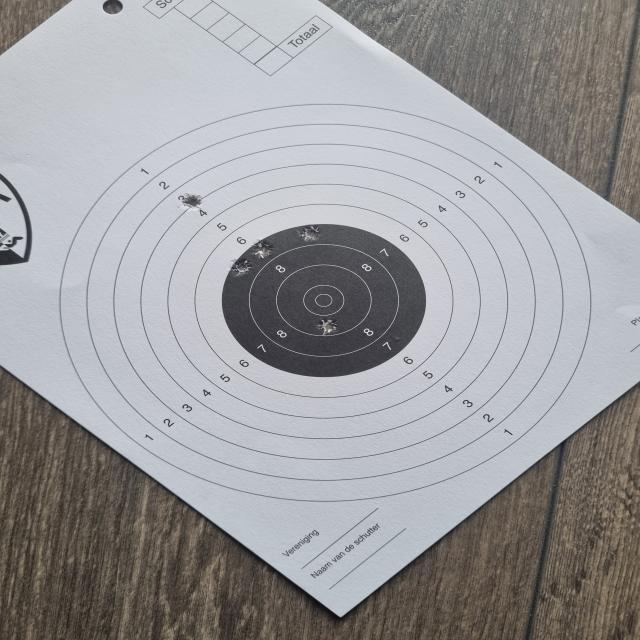4: (181, 195, 202, 209)
7: (227, 259, 253, 278), (251, 238, 273, 259), (296, 224, 321, 241)
9: (316, 320, 337, 336)
Target: (57, 101, 593, 503)
black_contour: (221, 222, 427, 377)
